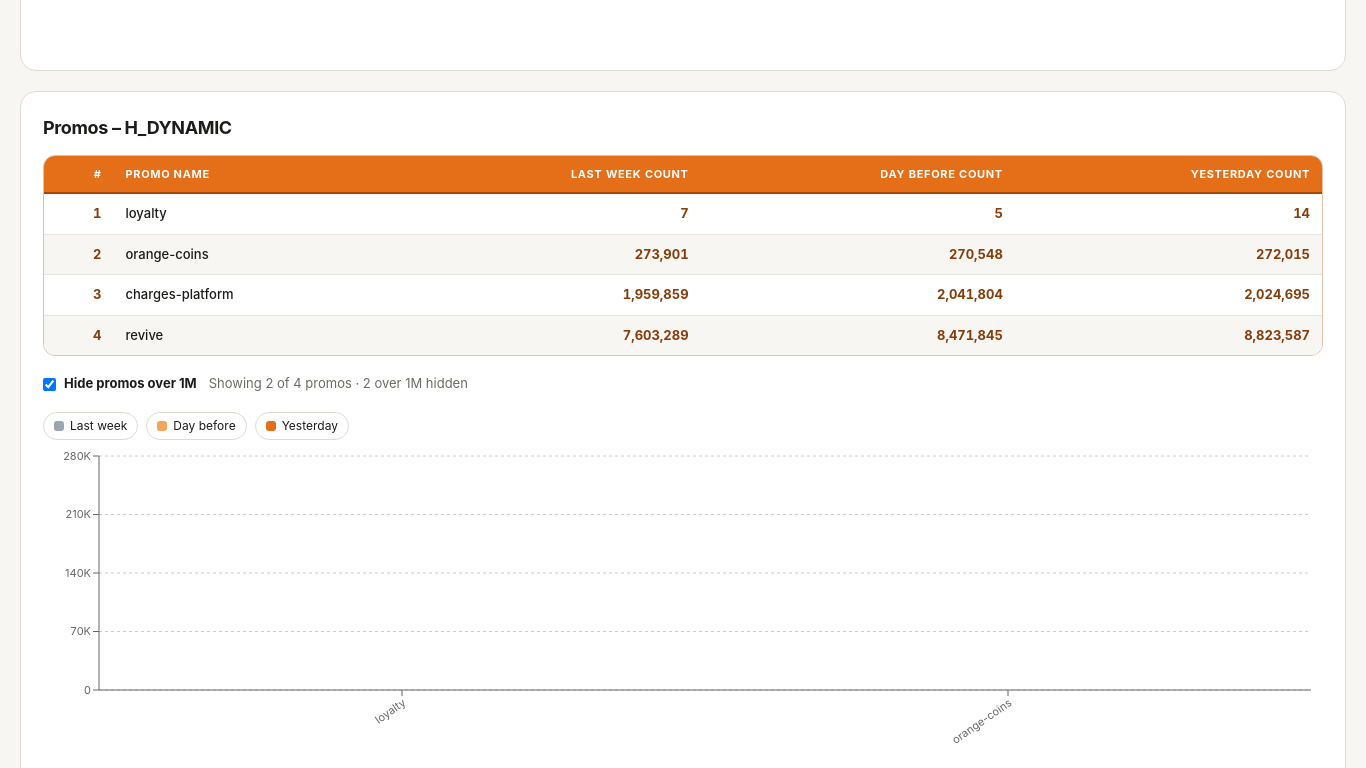
it: PeDailyPage › hides promos over 1M by default and shows them when the switch is off
(page scrolled)
Expected: the text "Showing 2 of 4 promos · 2 over 1M hidden" is shown, [209,374,468,394]
Click the checkbox labelled "Hide promos over 1M" at (50, 384), box [43,378,56,390]
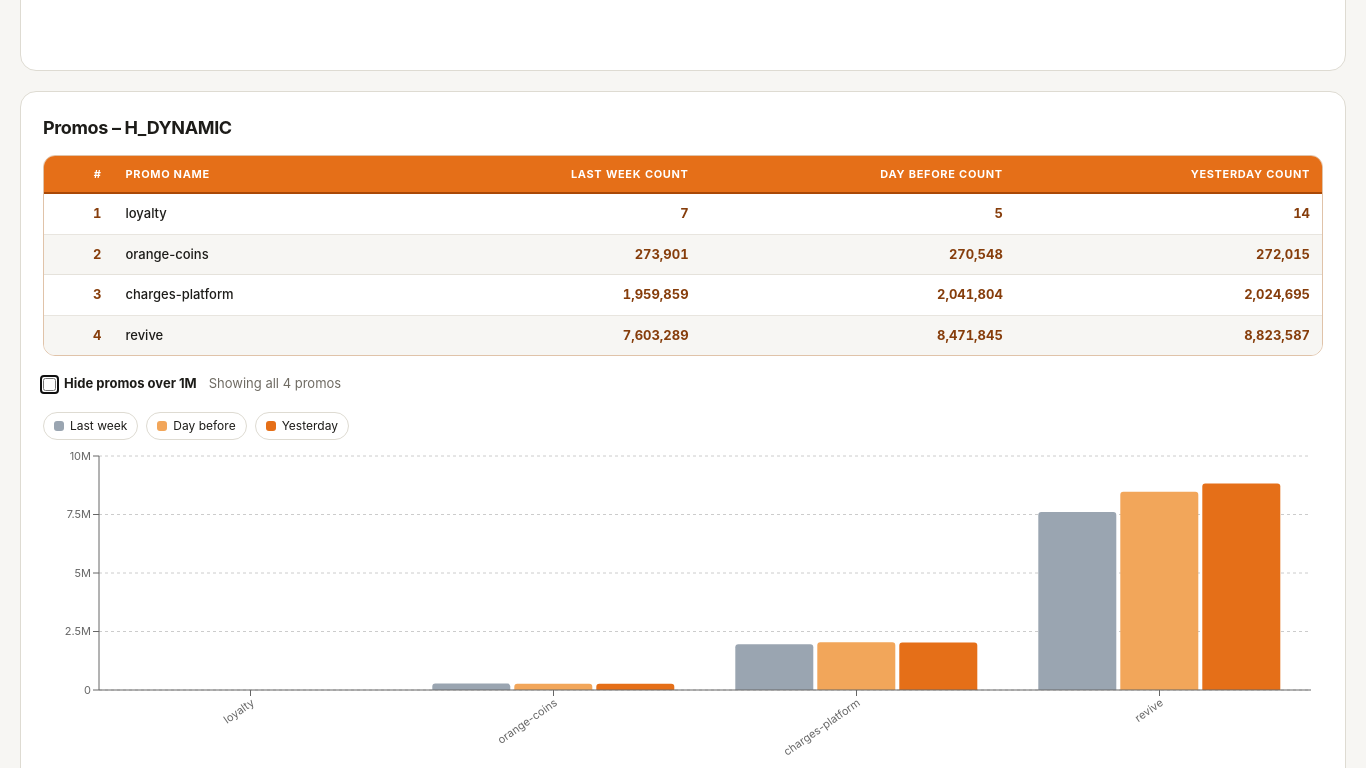
Now the text "Showing all 4 promos" is shown, box [209,374,341,394]
